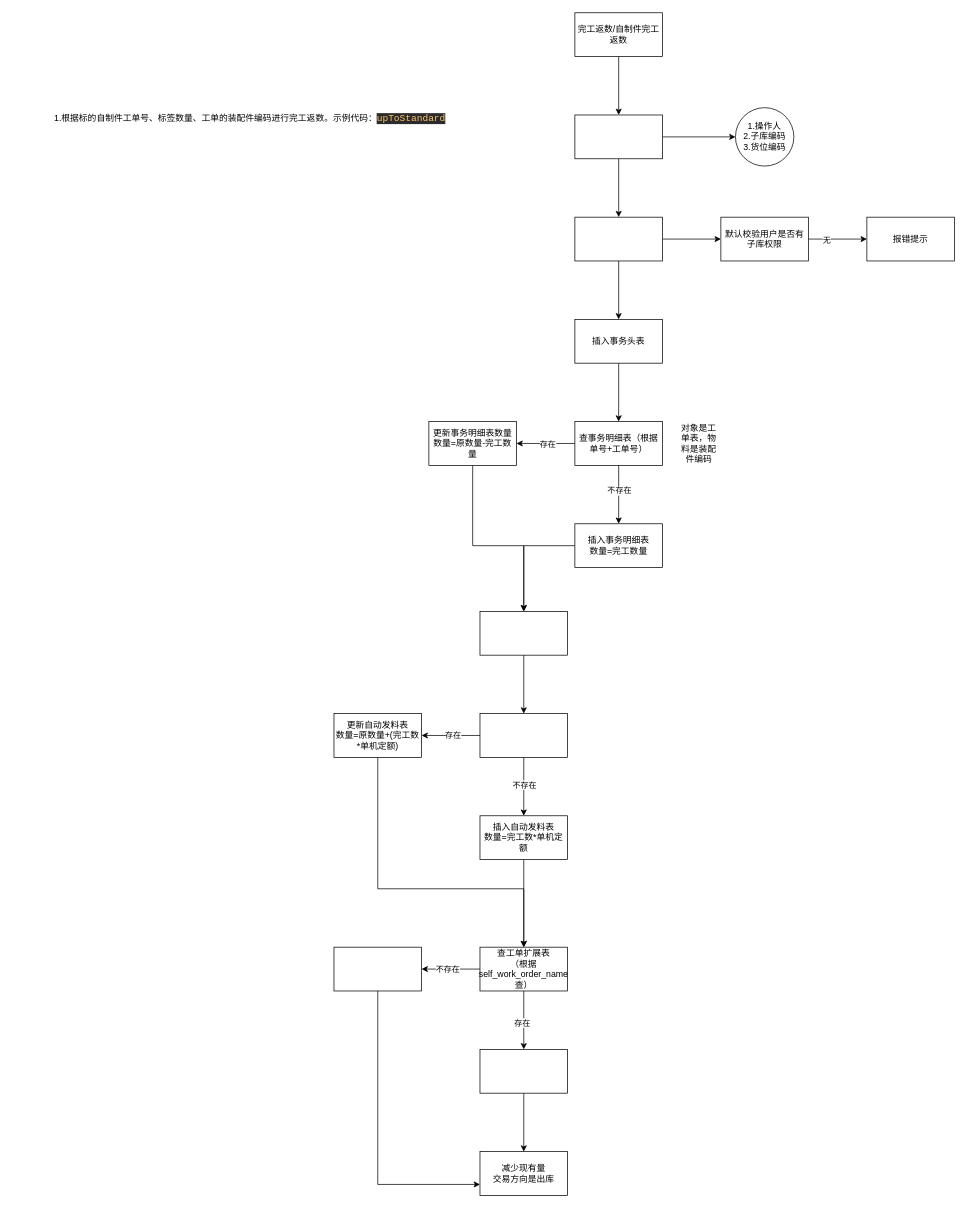
The diagram is 967 pixels wide and 1208 high, and some of its shapes have lost their labels. The centre of each missing label's shape, as x and y in pixels:
"插入工单扩展表 完工数量=入参完工数量 入库数量=入参完工数量" belongs at pixel 377 968.
"更新工单扩展表 完工数量=原始完工数量-入参完工数量 入库数量=原始入库数量-入参完工数量" belongs at pixel 523 1071.
"查自动发料表 （根据单号+工单号+工单bom物料查）" belongs at pixel 523 735.
"查询工单bom表" belongs at pixel 523 633.
"校验参数" belongs at pixel 618 136.
"校验子库权限" belongs at pixel 618 238.
